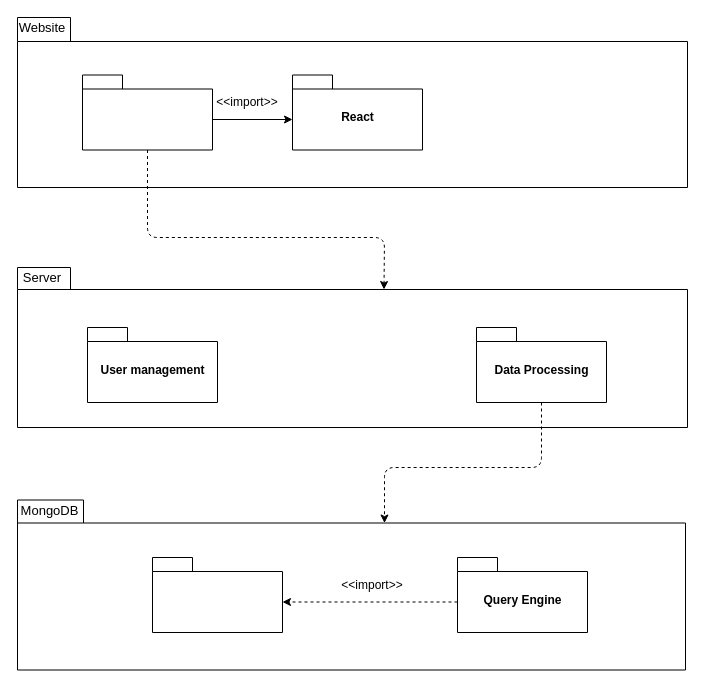
This 705x688 diagram has some shape labels left out. The box of each missing label's shape, as (x1, y1, x2, y2) in pixels:
Application Views: (82, 74, 212, 150)
DBMS: (152, 556, 282, 632)
